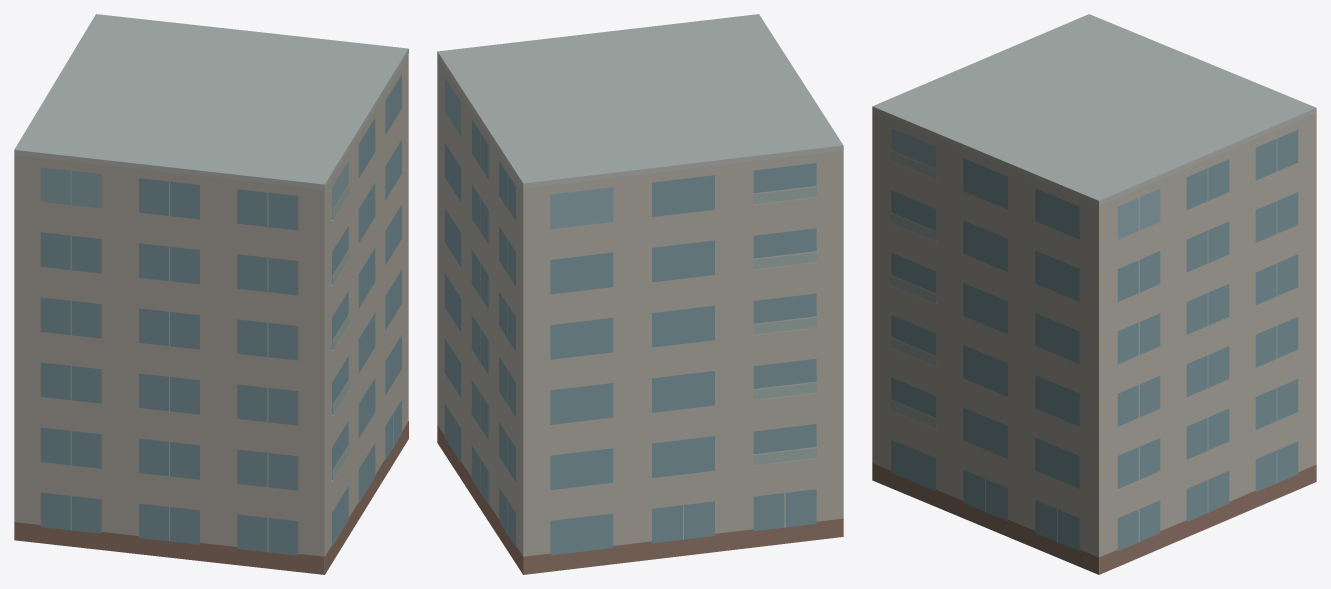
Rendered from survey-upis-32755648.glb.
3 views of the same model, side by side, from view 1: azimuth 30°, elevation 25°; view 2: azimuth 150°, elevation 25°; view 3: azimuth 270°, elevation 25° (orthographic). The views are drawn at different scales.
Visible parts, largest first — view 1: survey-upis-32755648.tmp; view 2: survey-upis-32755648.tmp; view 3: survey-upis-32755648.tmp.
Part boxes in pixels (x1,y1,x2,y2): survey-upis-32755648.tmp: (14, 14, 408, 574); survey-upis-32755648.tmp: (437, 14, 843, 574); survey-upis-32755648.tmp: (872, 14, 1316, 574).
Bounding box in the file's own units: 20.05 × 18.7 × 20.15.
